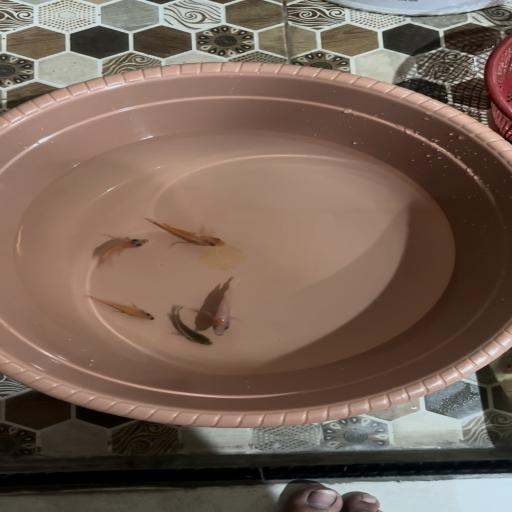nila: (144, 217, 227, 248), (203, 277, 243, 337), (159, 304, 215, 346), (79, 292, 158, 321), (98, 236, 151, 268)
